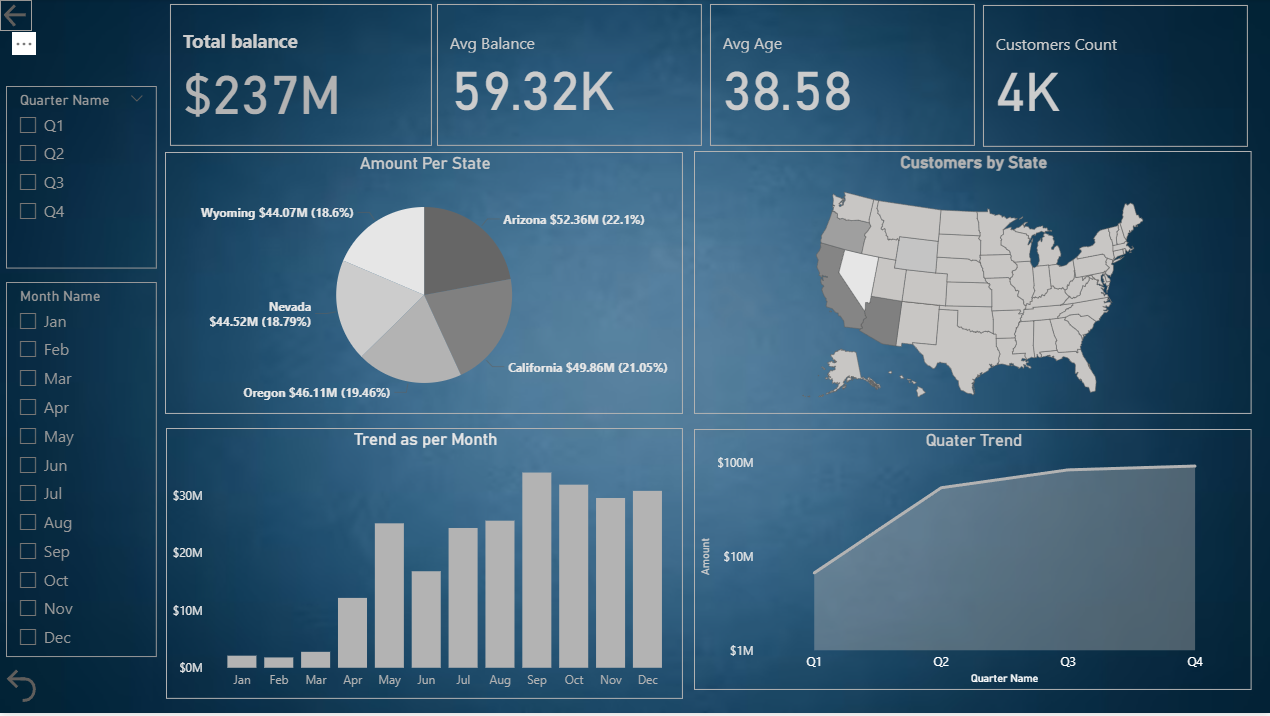

The dashboard page shown, as its layout file describes it:
{"tool":"powerbi","page":{"name":"Trend Analysis","canvas":[1280,720],"ordinal":5},"visuals":[{"type":"cardVisual","fields":{"Data":["Measure.Total balance"]},"box":[166.7,0,274.9,153.4],"z":0},{"type":"cardVisual","fields":{"Data":["Measure.Avg Balance"]},"box":[435.5,0,277,153],"z":1000},{"type":"cardVisual","fields":{"Data":["Measure.Avg Age"]},"box":[710.6,0,277,153],"z":2000},{"type":"cardVisual","fields":{"Data":["Measure.Customers Count"]},"box":[985.7,1.2,277.5,153.2],"z":3000},{"type":"shapeMap","title":"Customers by State","fields":{"Category":["Revised State.State"],"Value":["Measure.Customers Count"]},"box":[699.7,153.2,562.2,265.4],"z":4000},{"type":"areaChart","title":"Quater Trend","fields":{"Y":["Bank data.Total Balances"],"Category":["Date Table.Quarter Name"]},"box":[699.7,433.1,562.2,263],"z":5000},{"type":"pieChart","title":"Amount Per State","fields":{"Category":["Revised State.State"],"Y":["Sum(Bank data.Balance)"]},"box":[166.5,154.4,522.4,264.2],"z":6000},{"type":"clusteredColumnChart","title":"Trend as per Month","fields":{"Y":["Measure.Total balance"],"Category":["DateTable.Month Name"]},"box":[167.3,432.4,521.1,264.1],"z":7000},{"type":"actionButton","box":[0,1.2,32.6,31.4],"z":8000},{"type":"actionButton","box":[0,669.6,43.4,44.6],"z":9000},{"type":"slicer","fields":{"Values":["DateTable.Quarter Name"]},"box":[6.2,87.8,151.6,184.4],"z":10000},{"type":"slicer","fields":{"Values":["DateTable.Month Name"]},"box":[6.2,285.5,151.6,377.7],"z":10001}]}

Visuals, with their boxes on the page's 1280x720 design canvas (x1, y1, x2, y2). These are canvas units, not pixel positions in the 1270x716 screenshot, which may show the page scaled, cropped or inside an application window:
cardVisual - Measure.Total balance: <bbox>167, 0, 442, 153</bbox>
cardVisual - Measure.Avg Balance: <bbox>436, 0, 712, 153</bbox>
cardVisual - Measure.Avg Age: <bbox>711, 0, 988, 153</bbox>
cardVisual - Measure.Customers Count: <bbox>986, 1, 1263, 154</bbox>
"Customers by State" shapeMap: <bbox>700, 153, 1262, 419</bbox>
"Quater Trend" areaChart: <bbox>700, 433, 1262, 696</bbox>
"Amount Per State" pieChart: <bbox>166, 154, 689, 419</bbox>
"Trend as per Month" clusteredColumnChart: <bbox>167, 432, 688, 696</bbox>
actionButton: <bbox>0, 1, 33, 33</bbox>
actionButton: <bbox>0, 670, 43, 714</bbox>
slicer - DateTable.Quarter Name: <bbox>6, 88, 158, 272</bbox>
slicer - DateTable.Month Name: <bbox>6, 286, 158, 663</bbox>
